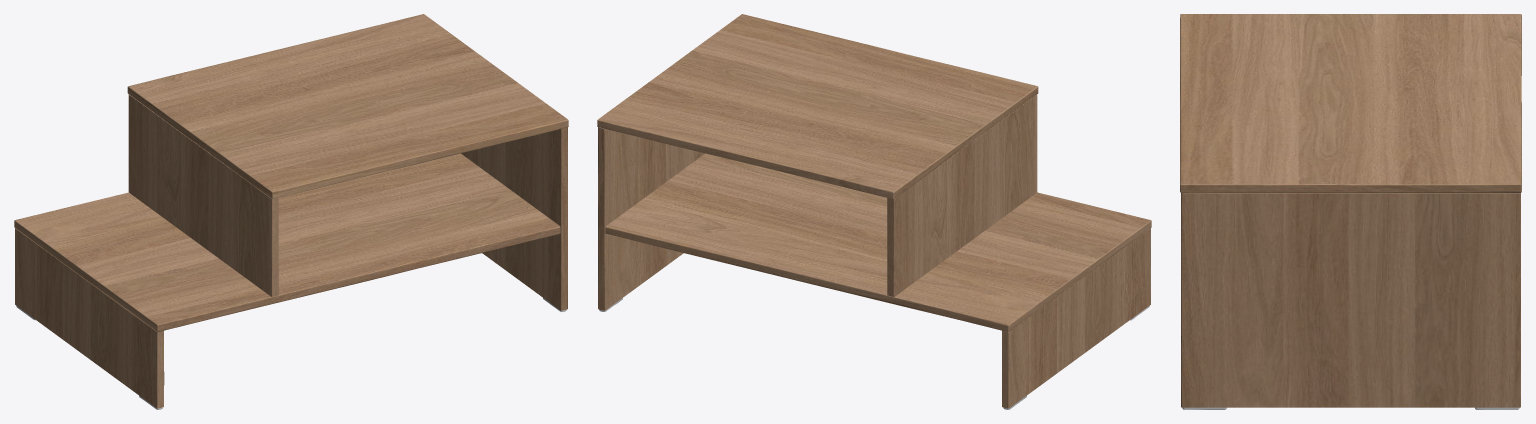
The model's file is holmerud_basse.glb.
3 views of the same model, side by side, from view 1: azimuth 30°, elevation 25°; view 2: azimuth 150°, elevation 25°; view 3: azimuth 270°, elevation 25° (orthographic). The views are drawn at different scales.
Visible parts, largest first — view 1: model; view 2: model; view 3: model.
Boxes of the visible parts, left/top/right/bottom form: model: left=14, top=14, right=568, bottom=409; model: left=597, top=14, right=1151, bottom=409; model: left=1180, top=14, right=1521, bottom=409.
Size of the model in its own units: 0.9 by 0.402 by 0.55.
Materials: 1 (1 with a texture image).
